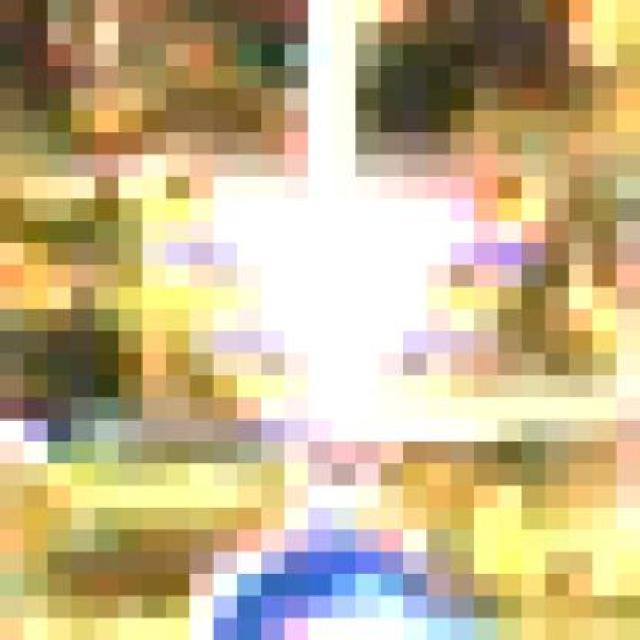Give Way: (71, 132, 569, 508)
